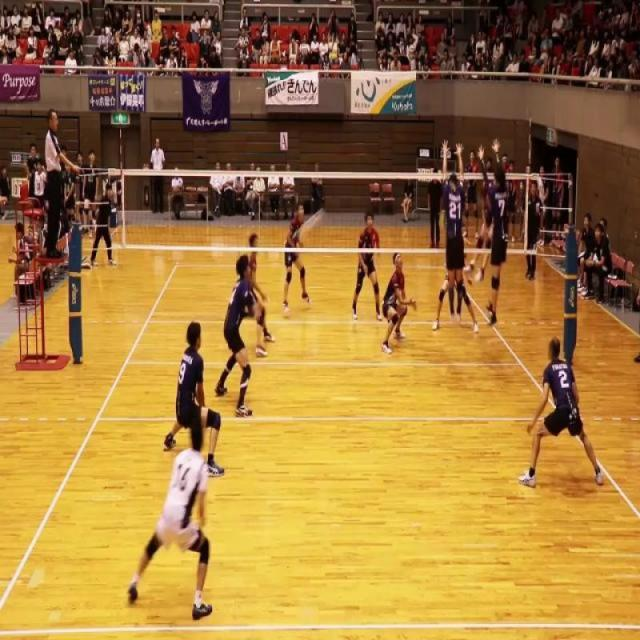volleyball: (293, 206, 325, 244)
